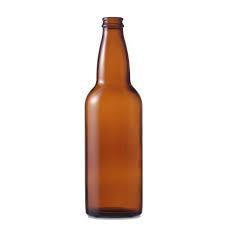beer: (84, 17, 143, 218)
